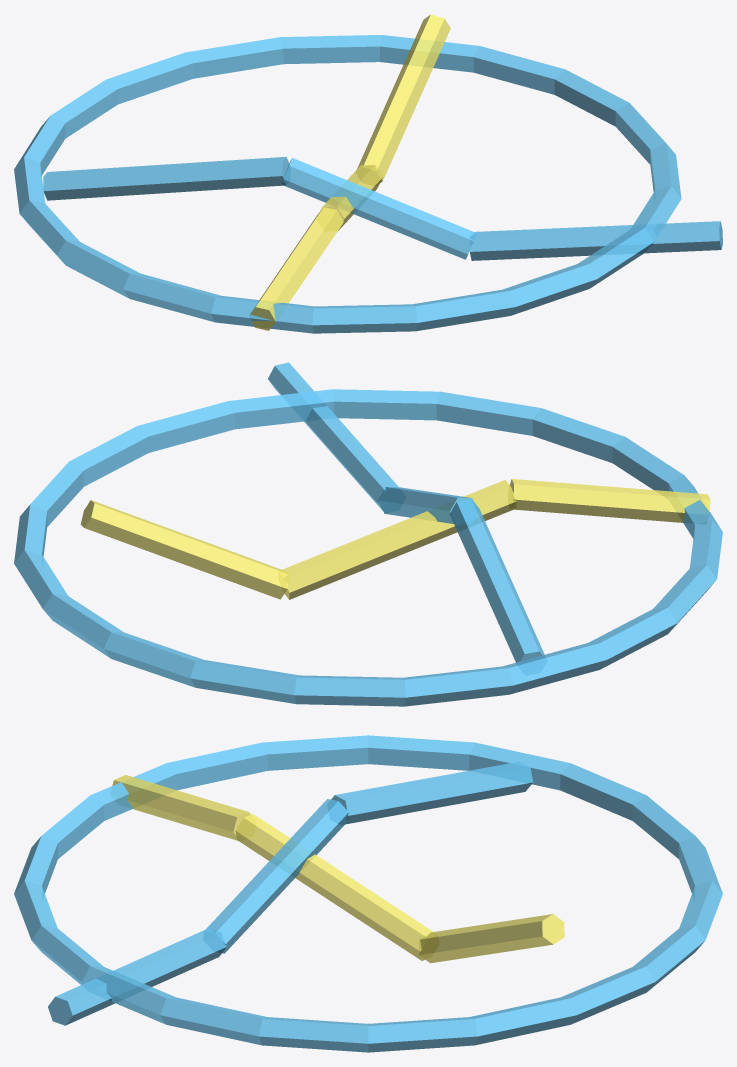
Rendered from vfx_overclock_sparks.glb.
3 views of the same model, one above another, from view 1: azimuth 30°, elevation 25°; view 2: azimuth 150°, elevation 25°; view 3: azimuth 270°, elevation 25° (orthographic). The views are drawn at different scales.
Visible parts, largest first — view 1: ring, spark_a_0, spark_a_2, spark_a_1, spark_b_0, spark_b_2, spark_b_1; view 2: ring, spark_b_1, spark_b_0, spark_b_2, spark_a_0, spark_a_2, spark_a_1; view 3: ring, spark_a_0, spark_b_1, spark_a_1, spark_a_2, spark_b_0, spark_b_2.
Boxes of the visible parts, bbox=[...] form: ring: bbox=[14, 35, 681, 333]; spark_a_0: bbox=[43, 156, 289, 200]; spark_a_2: bbox=[469, 221, 722, 260]; spark_a_1: bbox=[282, 158, 476, 259]; spark_b_0: bbox=[357, 14, 450, 182]; spark_b_2: bbox=[250, 207, 343, 330]; spark_b_1: bbox=[320, 164, 383, 230]; ring: bbox=[14, 389, 722, 706]; spark_b_1: bbox=[281, 480, 516, 599]; spark_b_0: bbox=[80, 500, 288, 599]; spark_b_2: bbox=[510, 479, 710, 522]; spark_a_0: bbox=[449, 499, 544, 662]; spark_a_2: bbox=[268, 362, 398, 511]; spark_a_1: bbox=[378, 487, 474, 523]; ring: bbox=[14, 735, 722, 1052]; spark_a_0: bbox=[331, 761, 533, 824]; spark_b_1: bbox=[235, 814, 433, 960]; spark_a_1: bbox=[206, 799, 348, 953]; spark_a_2: bbox=[48, 928, 226, 1025]; spark_b_0: bbox=[419, 914, 564, 963]; spark_b_2: bbox=[112, 775, 250, 840].
Size of the model in its own units: 1.15 by 0.1935 by 1.15.
